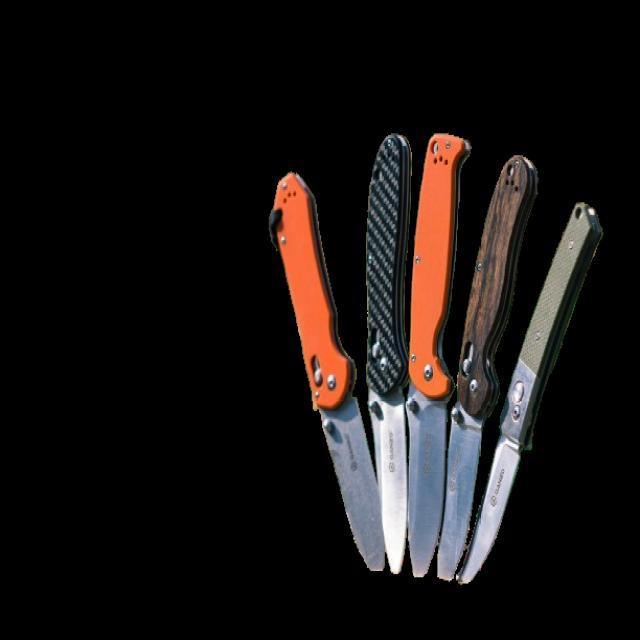knife: (460, 221, 604, 585), (272, 162, 388, 577), (438, 162, 544, 588), (408, 138, 473, 582), (366, 129, 414, 584)
